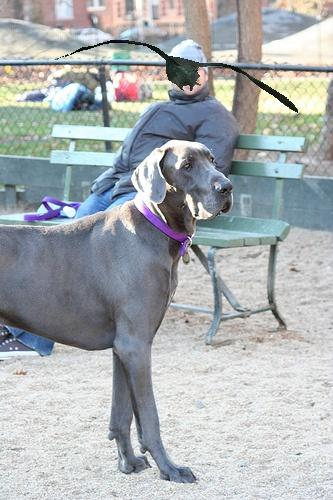tampered: (56, 41, 298, 113)
